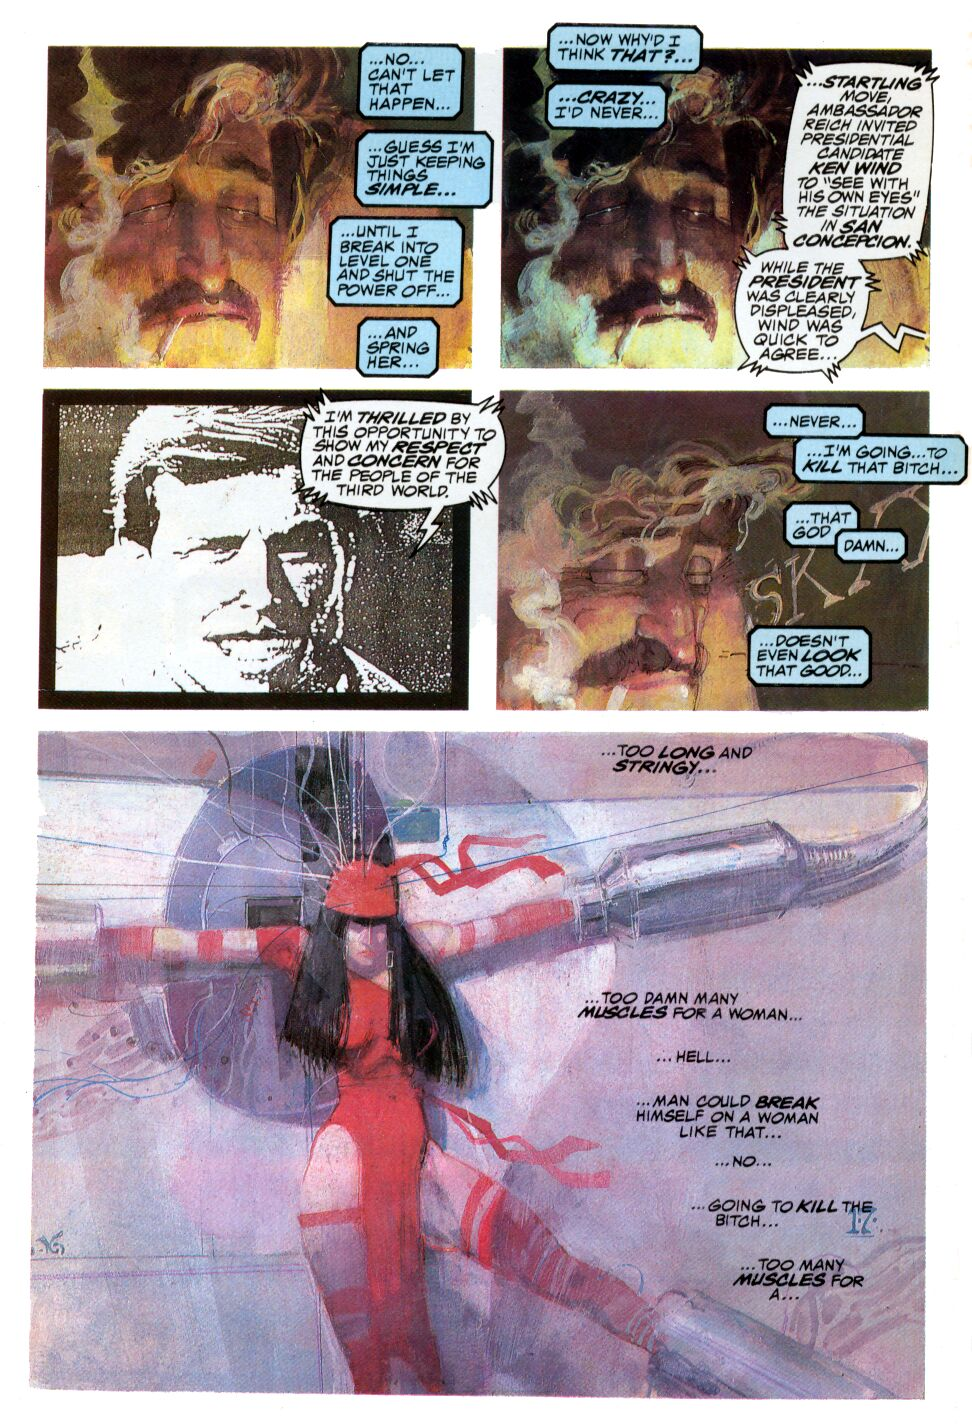Baloon: (737, 61, 928, 383), (289, 394, 511, 533), (574, 972, 819, 1033), (734, 1237, 874, 1333), (330, 218, 461, 307), (632, 1088, 828, 1146), (685, 1191, 884, 1244), (358, 131, 493, 205), (550, 20, 708, 77), (798, 435, 972, 484), (750, 622, 871, 683), (600, 737, 754, 785), (361, 44, 455, 116), (545, 81, 667, 124), (358, 320, 442, 372), (786, 503, 856, 548), (693, 1152, 795, 1181), (763, 409, 865, 435), (832, 527, 908, 561), (656, 1040, 732, 1070)
Vignetta: (28, 733, 921, 1401), (498, 387, 934, 711), (502, 42, 932, 370), (48, 44, 476, 368), (39, 393, 465, 709)
